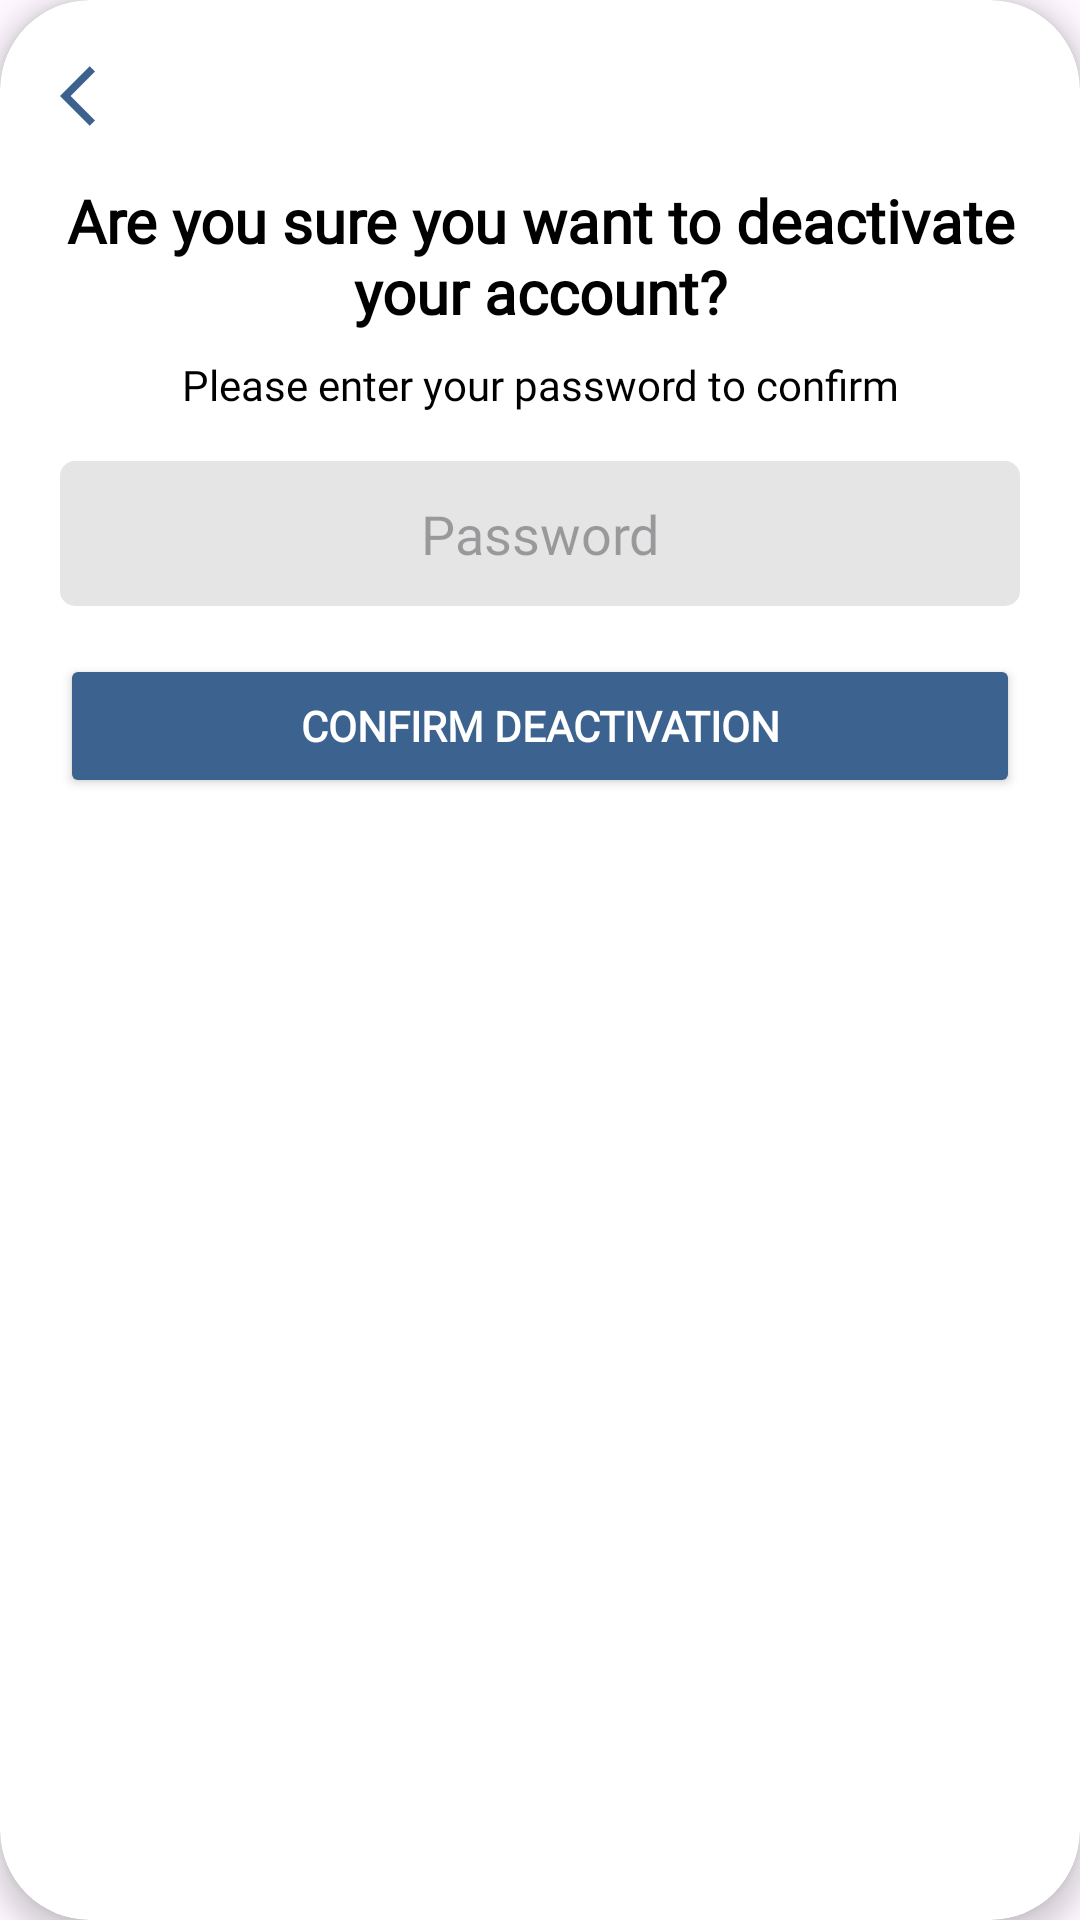

Locate icon controls on the screen. Image size 1080 × 1920, boxes as (x1, y1, x2, y2).
arrow back: (60, 66, 95, 126)
